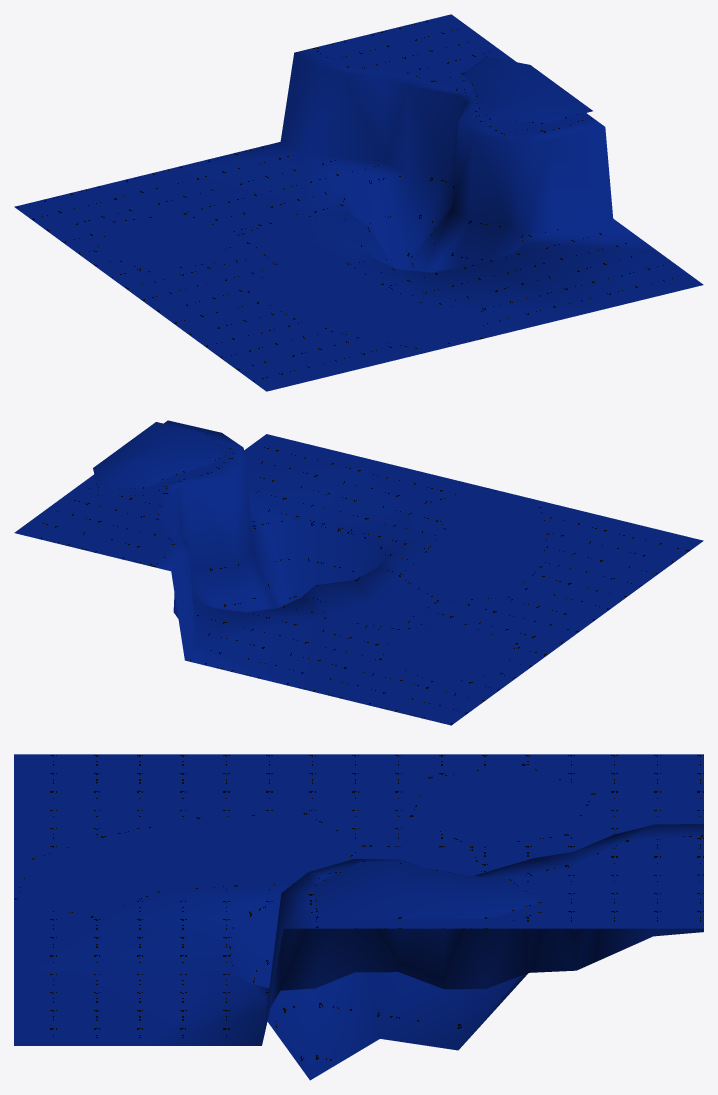
Rendered from GRD_S_C7_3.fbx.
The picture shows the model from 3 angles, top to bottom: view 1: azimuth 30°, elevation 25°; view 2: azimuth 150°, elevation 25°; view 3: azimuth 270°, elevation 25°; orthographic projection. The views are drawn at different scales.
Visible parts, largest first — view 1: material_00022000, material_00042000, material_C0032000, material_C0052000, material_C0012000, material_C0062000; view 2: material_00022000, material_C0032000, material_C0052000, material_00042000, material_C0012000, material_C0062000; view 3: material_00022000, material_C0032000, material_00042000, material_C0052000, material_C0012000, material_C0062000.
Part boxes in pixels (bbox=[...]): material_00022000: bbox=[14, 14, 703, 391]; material_00042000: bbox=[280, 47, 613, 233]; material_C0032000: bbox=[94, 213, 485, 348]; material_C0052000: bbox=[341, 174, 524, 272]; material_C0012000: bbox=[463, 56, 592, 123]; material_C0062000: bbox=[463, 78, 592, 130]; material_00022000: bbox=[14, 434, 703, 725]; material_C0032000: bbox=[315, 487, 549, 682]; material_C0052000: bbox=[190, 519, 387, 612]; material_00042000: bbox=[151, 420, 252, 659]; material_C0012000: bbox=[93, 422, 225, 488]; material_C0062000: bbox=[93, 458, 225, 495]; material_00022000: bbox=[14, 754, 703, 1045]; material_C0032000: bbox=[14, 763, 595, 918]; material_00042000: bbox=[262, 824, 703, 1044]; material_C0052000: bbox=[228, 902, 528, 1080]; material_C0012000: bbox=[313, 861, 542, 918]; material_C0062000: bbox=[313, 895, 542, 928].
Bounding box in the file's own units: 12800 × 5600 × 12800.
